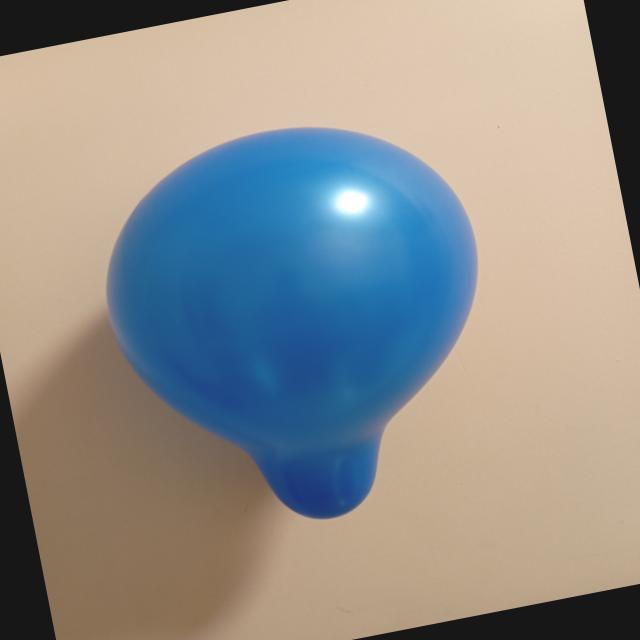balloon: (107, 128, 477, 518)
